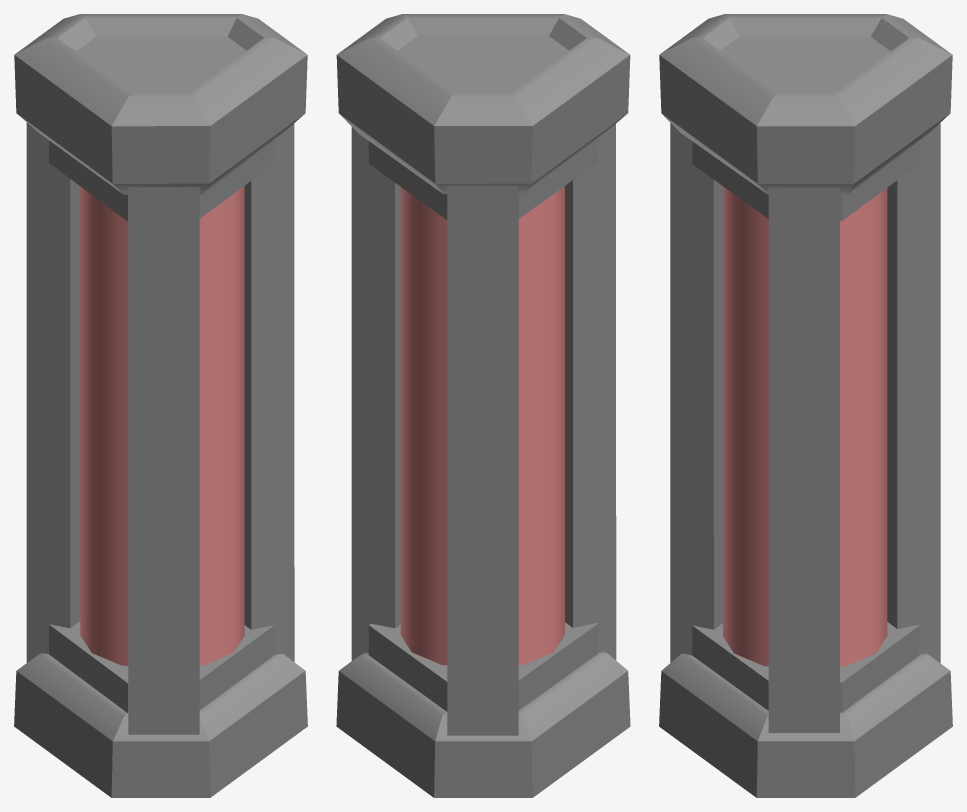
Rendered from S_Envi_Olgk_Refine_01h.gltf.
3 views of the same model, side by side, from view 1: azimuth 30°, elevation 25°; view 2: azimuth 150°, elevation 25°; view 3: azimuth 270°, elevation 25° (orthographic).
Parts seen in each view (by area): view 1: S_Envi_Olgk_Refine_01h; view 2: S_Envi_Olgk_Refine_01h; view 3: S_Envi_Olgk_Refine_01h.
Part boxes in pixels (left/top/right/bottom): S_Envi_Olgk_Refine_01h: left=14, top=14, right=307, bottom=797; S_Envi_Olgk_Refine_01h: left=336, top=14, right=630, bottom=797; S_Envi_Olgk_Refine_01h: left=659, top=14, right=952, bottom=797.
Size of the model in its own units: 0.6721 by 2 by 0.7756.
